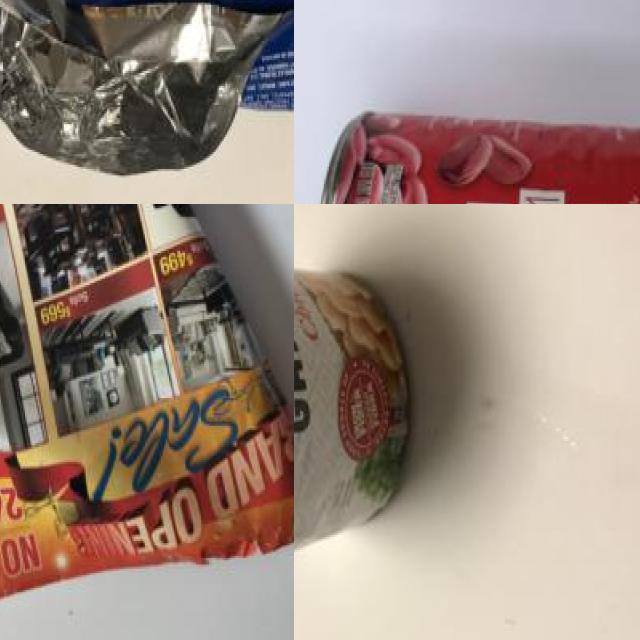paper: (0, 204, 294, 596)
plastic: (294, 215, 429, 640), (300, 86, 640, 204)
trash: (0, 0, 294, 195)
